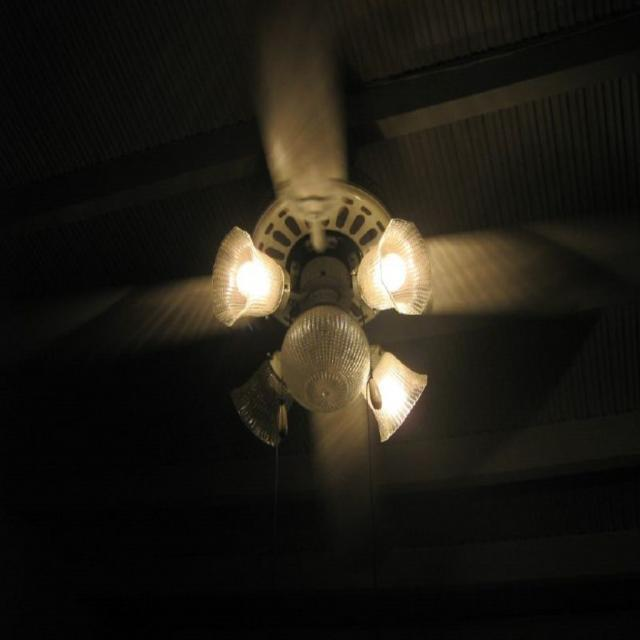bulb_on: (238, 254, 273, 308), (372, 250, 407, 294), (378, 371, 402, 417)
fan_off: (11, 5, 612, 579)
